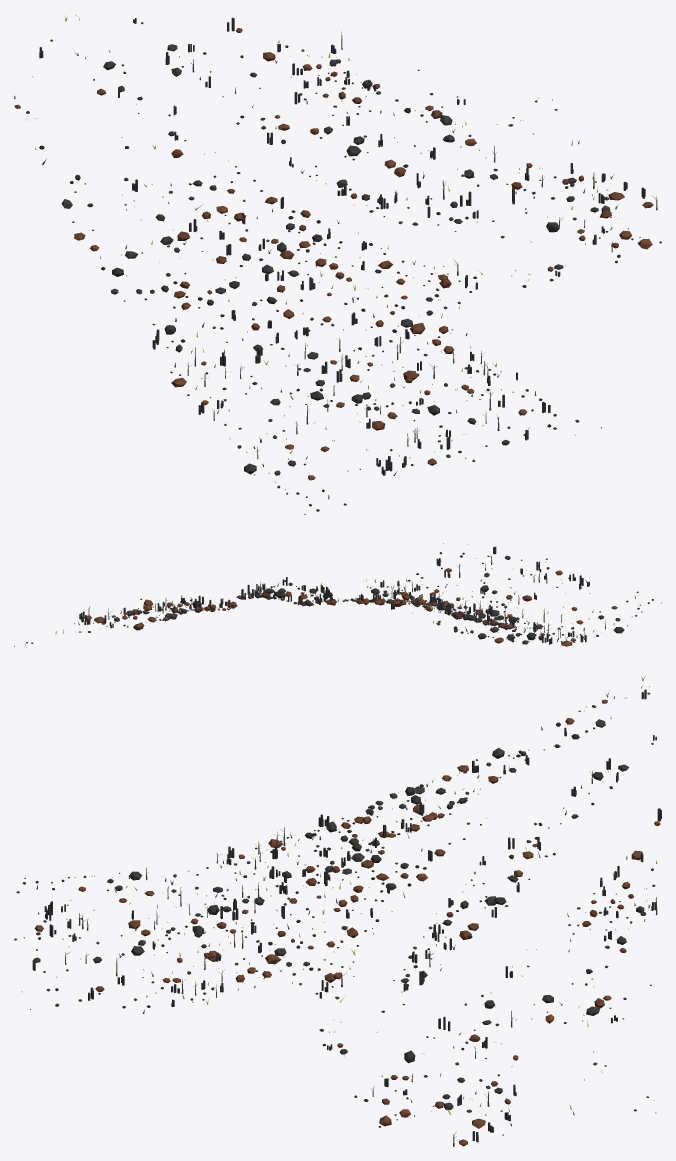
The model's file is ash_land_scatter_c21_29_lod1.glb.
3 renders of one model, top to bottom at view 1: azimuth 30°, elevation 25°; view 2: azimuth 150°, elevation 25°; view 3: azimuth 270°, elevation 25°, orthographic. The views are drawn at different scales.
Visible parts, largest first — view 1: ash_land_scatter_c21_29_lod1; view 2: ash_land_scatter_c21_29_lod1; view 3: ash_land_scatter_c21_29_lod1.
Boxes of the visible parts, left/top/right/bottom form: ash_land_scatter_c21_29_lod1: left=14, top=15, right=661, bottom=514; ash_land_scatter_c21_29_lod1: left=14, top=543, right=661, bottom=646; ash_land_scatter_c21_29_lod1: left=14, top=676, right=661, bottom=1146.
Size of the model in its own units: 258 by 105 by 257.
